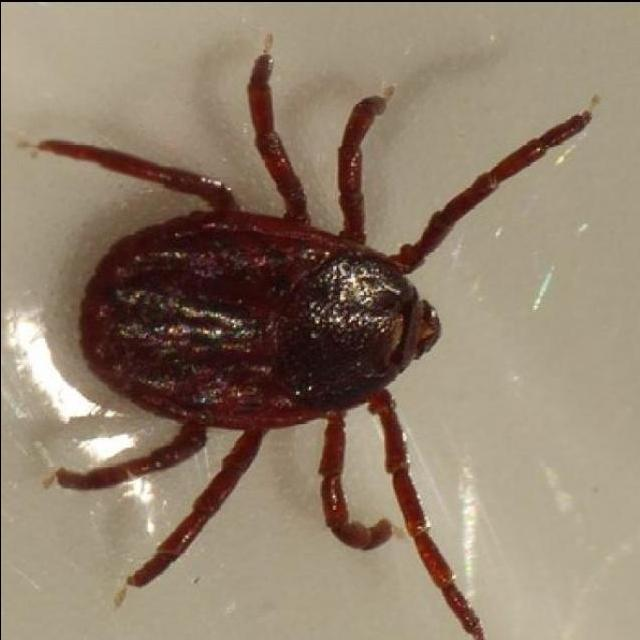Rhipicephalus Sanguineus-F: (30, 53, 590, 640)
